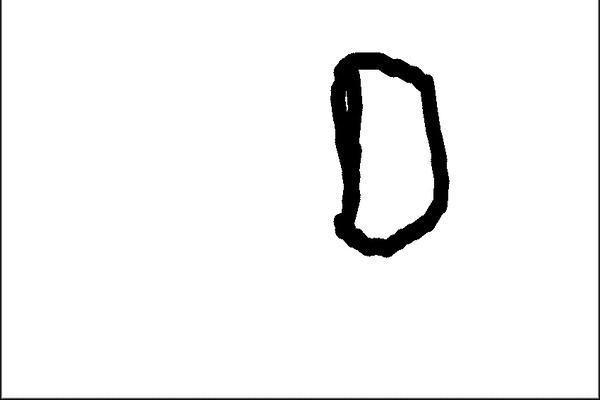D: (320, 48, 456, 263)
